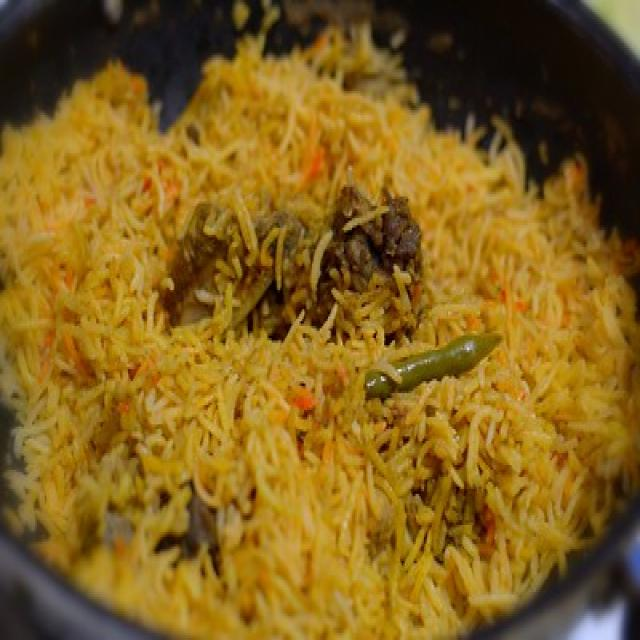Biryani: (1, 91, 640, 604)
